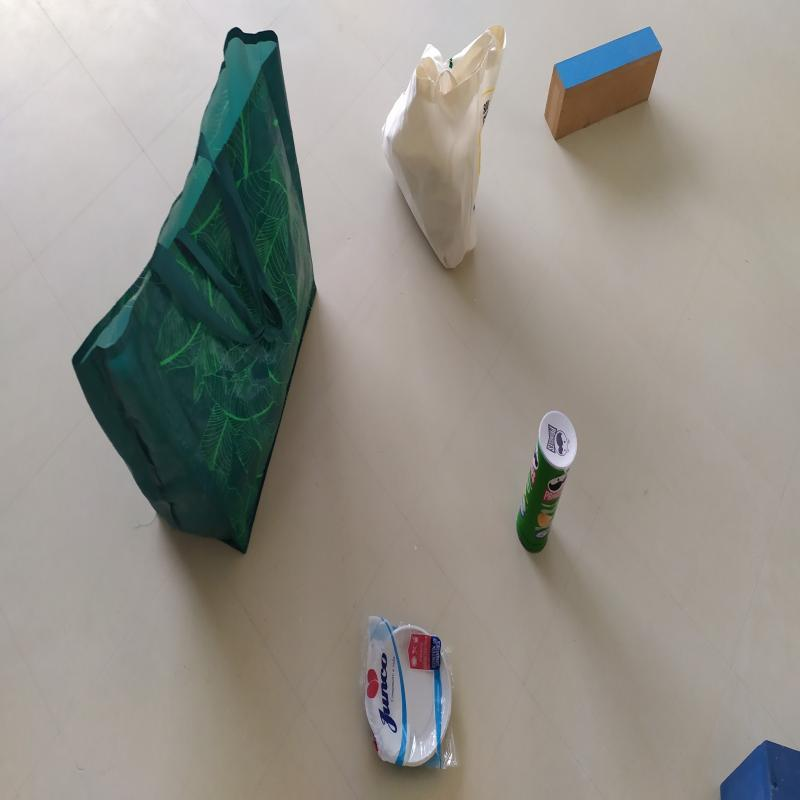Bag: (71, 29, 318, 561), (382, 22, 511, 274)
Plate: (362, 612, 456, 771)
Pringles: (515, 411, 578, 562)
